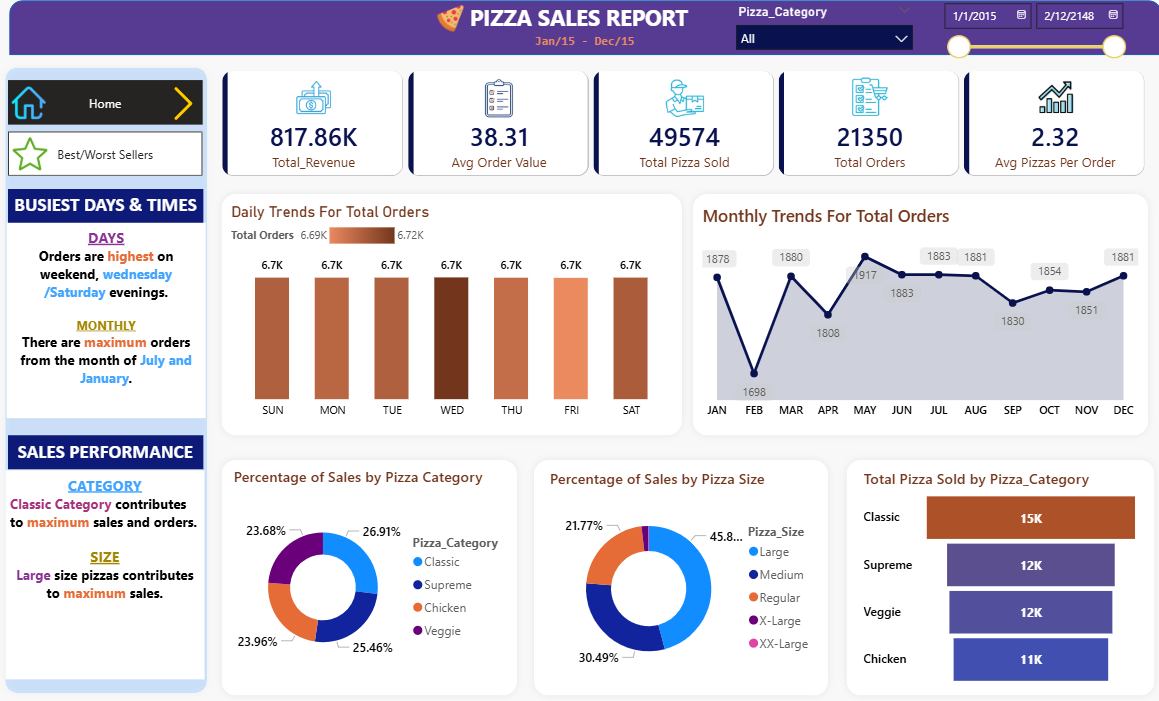

The dashboard page shown, as its layout file describes it:
{"tool":"powerbi","page":{"name":"Home","canvas":[1300,800],"ordinal":0},"visuals":[{"type":"cardVisual","fields":{"Data":["pizza_sales.Total_Revenue","pizza_sales.Avg Order Value","pizza_sales.Total Pizza Sold","pizza_sales.Total Orders","pizza_sales.Avg Pizzas Per Order"]},"box":[238.9,67.7,1042.2,139.6],"z":0},{"type":"shape","box":[12.4,1.4,1274.4,60.8],"z":1000},{"type":"textbox","box":[516.9,0,264,47],"z":2000},{"type":"shape","box":[0,67.7,239.1,707.7],"z":3000},{"type":"textbox","box":[588.8,31.8,123,33.2],"z":4000},{"type":"image","box":[485,6,30,32],"z":5000},{"type":"shape","box":[239.1,207.3,525.2,283.3],"z":6000},{"type":"columnChart","title":"Daily Trends For Total Orders","fields":{"Category":["pizza_sales.Order Day"],"Y":["pizza_sales.Total Orders"]},"box":[252.9,225.3,499,247.4],"z":7000},{"type":"shape","box":[760.2,207.3,519.7,283.3],"z":8000},{"type":"areaChart","title":"Monthly Trends For Total Orders","fields":{"Category":["pizza_sales.Order Month"],"Y":["pizza_sales.Total Orders"]},"box":[774,226.7,492.1,246],"z":9000},{"type":"shape","box":[239.1,501.7,342.8,276.4],"z":10000},{"type":"shape","box":[584.7,501.7,341.4,276.4],"z":11000},{"type":"shape","box":[930.2,501.7,356.6,276.4],"z":12000},{"type":"donutChart","title":"Percentage of Sales by Pizza Category","fields":{"Category":["pizza_sales.Pizza_Category"],"Y":["pizza_sales.Total_Revenue"]},"box":[255.7,516.9,309.6,246],"z":13000},{"type":"donutChart","title":"Percentage of Sales by Pizza Size","fields":{"Y":["pizza_sales.Total_Revenue"],"Category":["pizza_sales.Pizza_Size"]},"box":[605.4,518.3,309.6,246],"z":14000},{"type":"funnel","fields":{"Category":["pizza_sales.Pizza_Category"],"Y":["pizza_sales.Total Pizza Sold"]},"box":[952.3,518.3,315.1,246],"z":15000},{"type":"textbox","box":[11.1,210.1,215.6,37.3],"z":16000},{"type":"textbox","box":[9.7,247.4,219.8,215.6],"z":17000},{"type":"textbox","box":[8.3,521.1,219.8,230.8],"z":18000},{"type":"textbox","box":[11.1,482.4,215.6,37.3],"z":19000},{"type":"slicer","fields":{"Values":["pizza_sales.Pizza_Category"]},"box":[805.8,0,215.6,62.2],"z":20000},{"type":"slicer","fields":{"Values":["pizza_sales.Order_Date"]},"box":[1033.9,0,221.1,78.8],"z":21000},{"type":"pageNavigator","box":[11.1,89.8,215.6,49.8],"z":22000},{"type":"pageNavigator","box":[11.1,146.5,215.6,49.8],"z":23000},{"type":"image","box":[183.8,96.8,42.8,37.3],"z":24000},{"type":"image","box":[15.2,91.2,37.3,47],"z":25000},{"type":"image","box":[13.8,152,42.8,38.7],"z":26000}]}

Visuals, with their boxes in screenshot pixels (x1, y1, x2, y2), scaled from the page's 1300x800 canvas onto the 1159x701 screenshot:
cardVisual - pizza_sales.Total_Revenue x pizza_sales.Avg Order Value: 213, 59, 1142, 182
shape: 11, 1, 1147, 55
textbox: 461, 0, 696, 41
shape: 0, 59, 213, 679
textbox: 525, 28, 635, 57
image: 432, 5, 459, 33
shape: 213, 182, 681, 430
"Daily Trends For Total Orders" columnChart: 225, 197, 670, 414
shape: 678, 182, 1141, 430
"Monthly Trends For Total Orders" areaChart: 690, 199, 1129, 414
shape: 213, 440, 519, 682
shape: 521, 440, 826, 682
shape: 829, 440, 1147, 682
"Percentage of Sales by Pizza Category" donutChart: 228, 453, 504, 668
"Percentage of Sales by Pizza Size" donutChart: 540, 454, 816, 670
funnel - pizza_sales.Pizza_Category x pizza_sales.Total Pizza Sold: 849, 454, 1130, 670
textbox: 10, 184, 202, 217
textbox: 9, 217, 205, 406
textbox: 7, 457, 203, 659
textbox: 10, 423, 202, 455
slicer - pizza_sales.Pizza_Category: 718, 0, 911, 55
slicer - pizza_sales.Order_Date: 922, 0, 1119, 69
pageNavigator: 10, 79, 202, 122
pageNavigator: 10, 128, 202, 172
image: 164, 85, 202, 118
image: 14, 80, 47, 121
image: 12, 133, 50, 167
